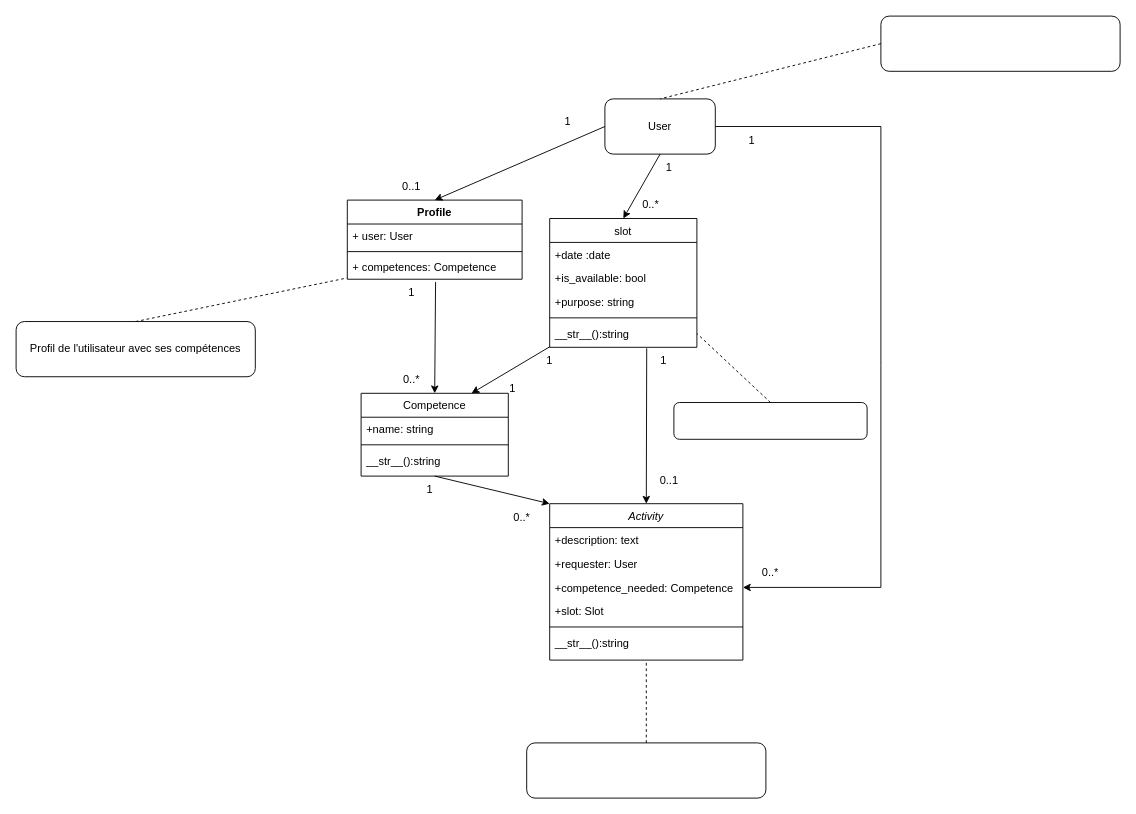
This 1136x814 diagram has some shape labels left out. The centre of each missing label's shape, as x and y in pixels:
"Activité liée à un créneau" goes at [646,770].
"Créneau de disponibilité ou demandé" goes at [770,420].
"Utilisateur hérité de Djangp" goes at [1000,43].
